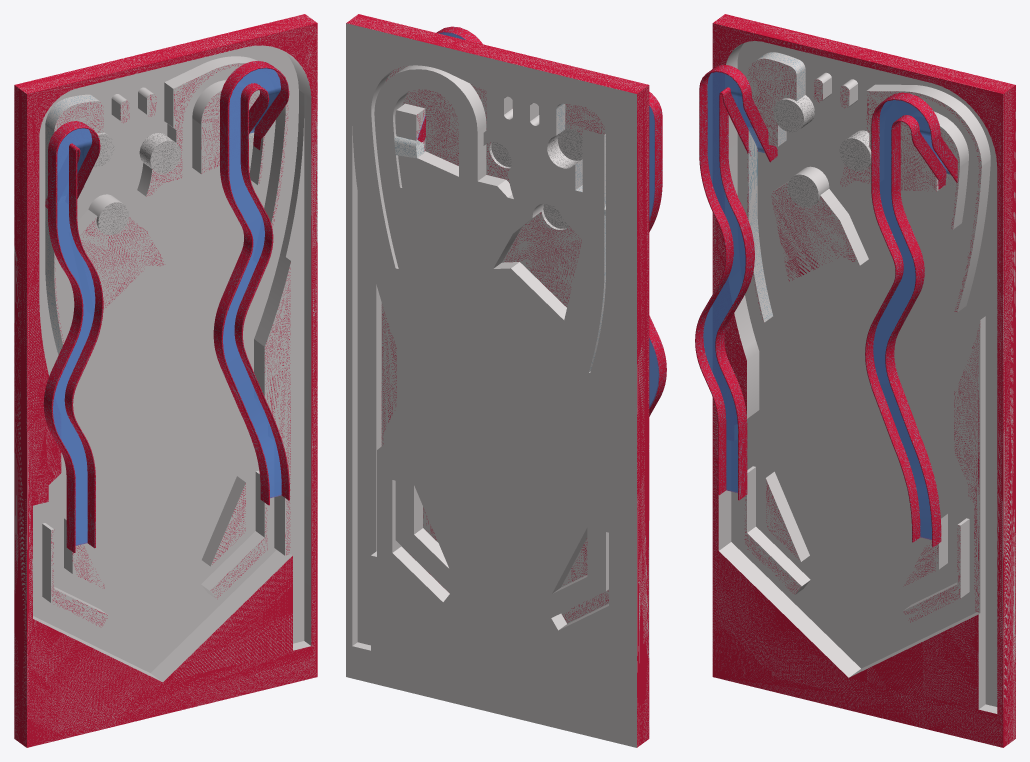
The model's file is suprime.dae.
3 renders of one model, left to right at view 1: azimuth 30°, elevation 25°; view 2: azimuth 150°, elevation 25°; view 3: azimuth 330°, elevation 25°, orthographic.
Visible parts, largest first — view 1: SketchUp (×26); view 2: SketchUp (×21); view 3: SketchUp (×28).
Boxes of the visible parts, left/top/right/bottom form: SketchUp (×26): left=14, top=14, right=317, bottom=747; SketchUp (×21): left=346, top=14, right=666, bottom=747; SketchUp (×28): left=695, top=14, right=1015, bottom=747.
Size of the model in its own units: 1850 by 384 by 3976.
